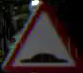Speed Breaker ahead: (5, 1, 79, 72)
